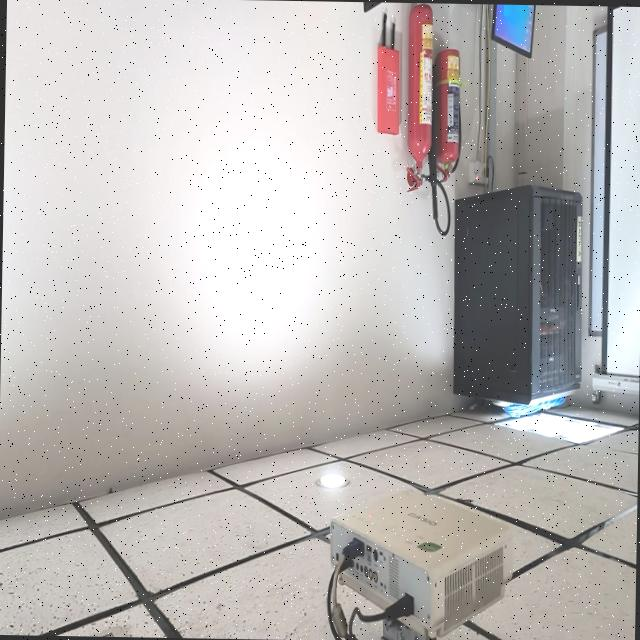Fire Extinguisher: (406, 3, 431, 171), (434, 47, 459, 167)
Light: (499, 411, 622, 442), (315, 473, 347, 490)
Monitor: (490, 3, 534, 57), (362, 1, 382, 12)
Projector: (329, 490, 511, 640)
